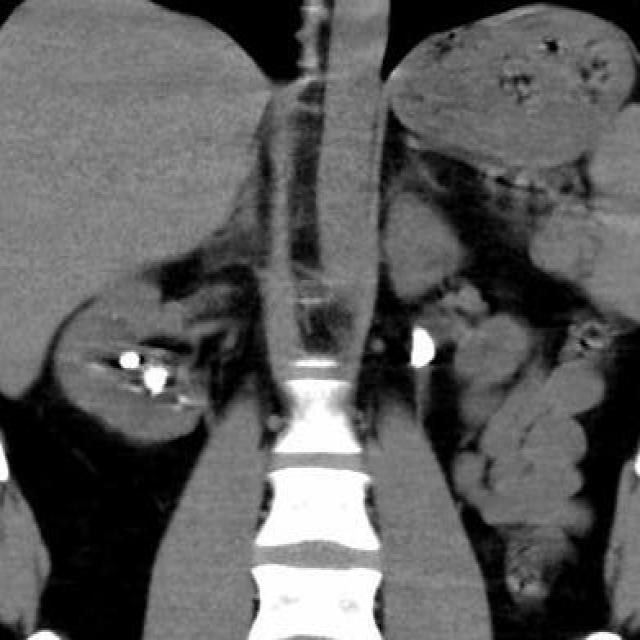Tas_Var: (402, 319, 448, 371), (139, 366, 174, 400), (115, 343, 145, 375)
